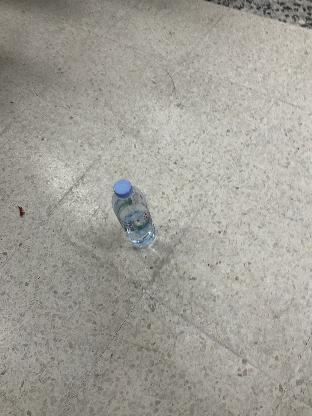Plastic Bottle: (110, 180, 156, 248)
